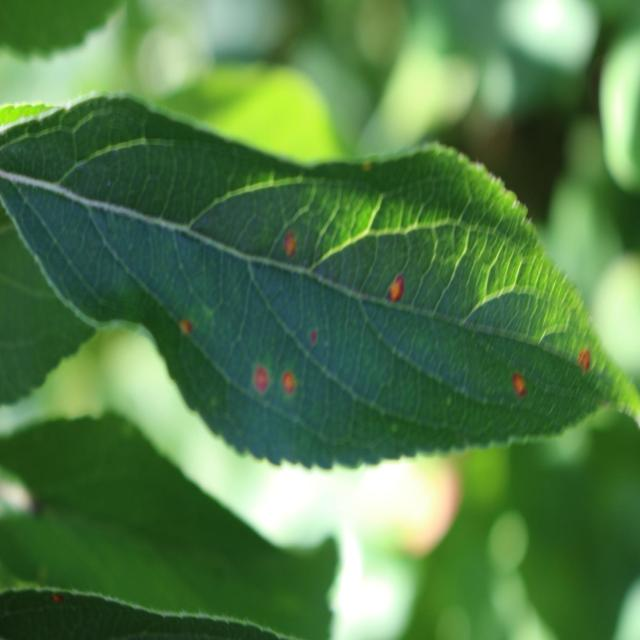Rust: (503, 356, 540, 436), (569, 324, 600, 399), (376, 269, 422, 319), (240, 352, 277, 407), (280, 363, 307, 421), (169, 294, 196, 352), (277, 224, 315, 263), (299, 315, 326, 359)
